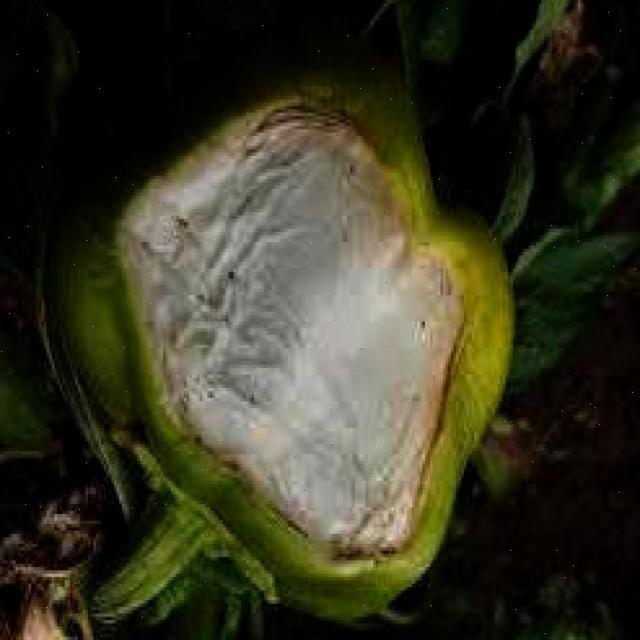Sunscald Fruit: (76, 61, 301, 386)
